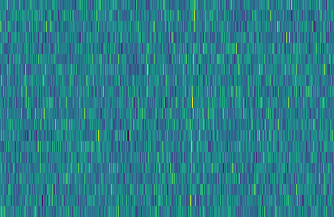signal: (185, 0, 199, 217)
